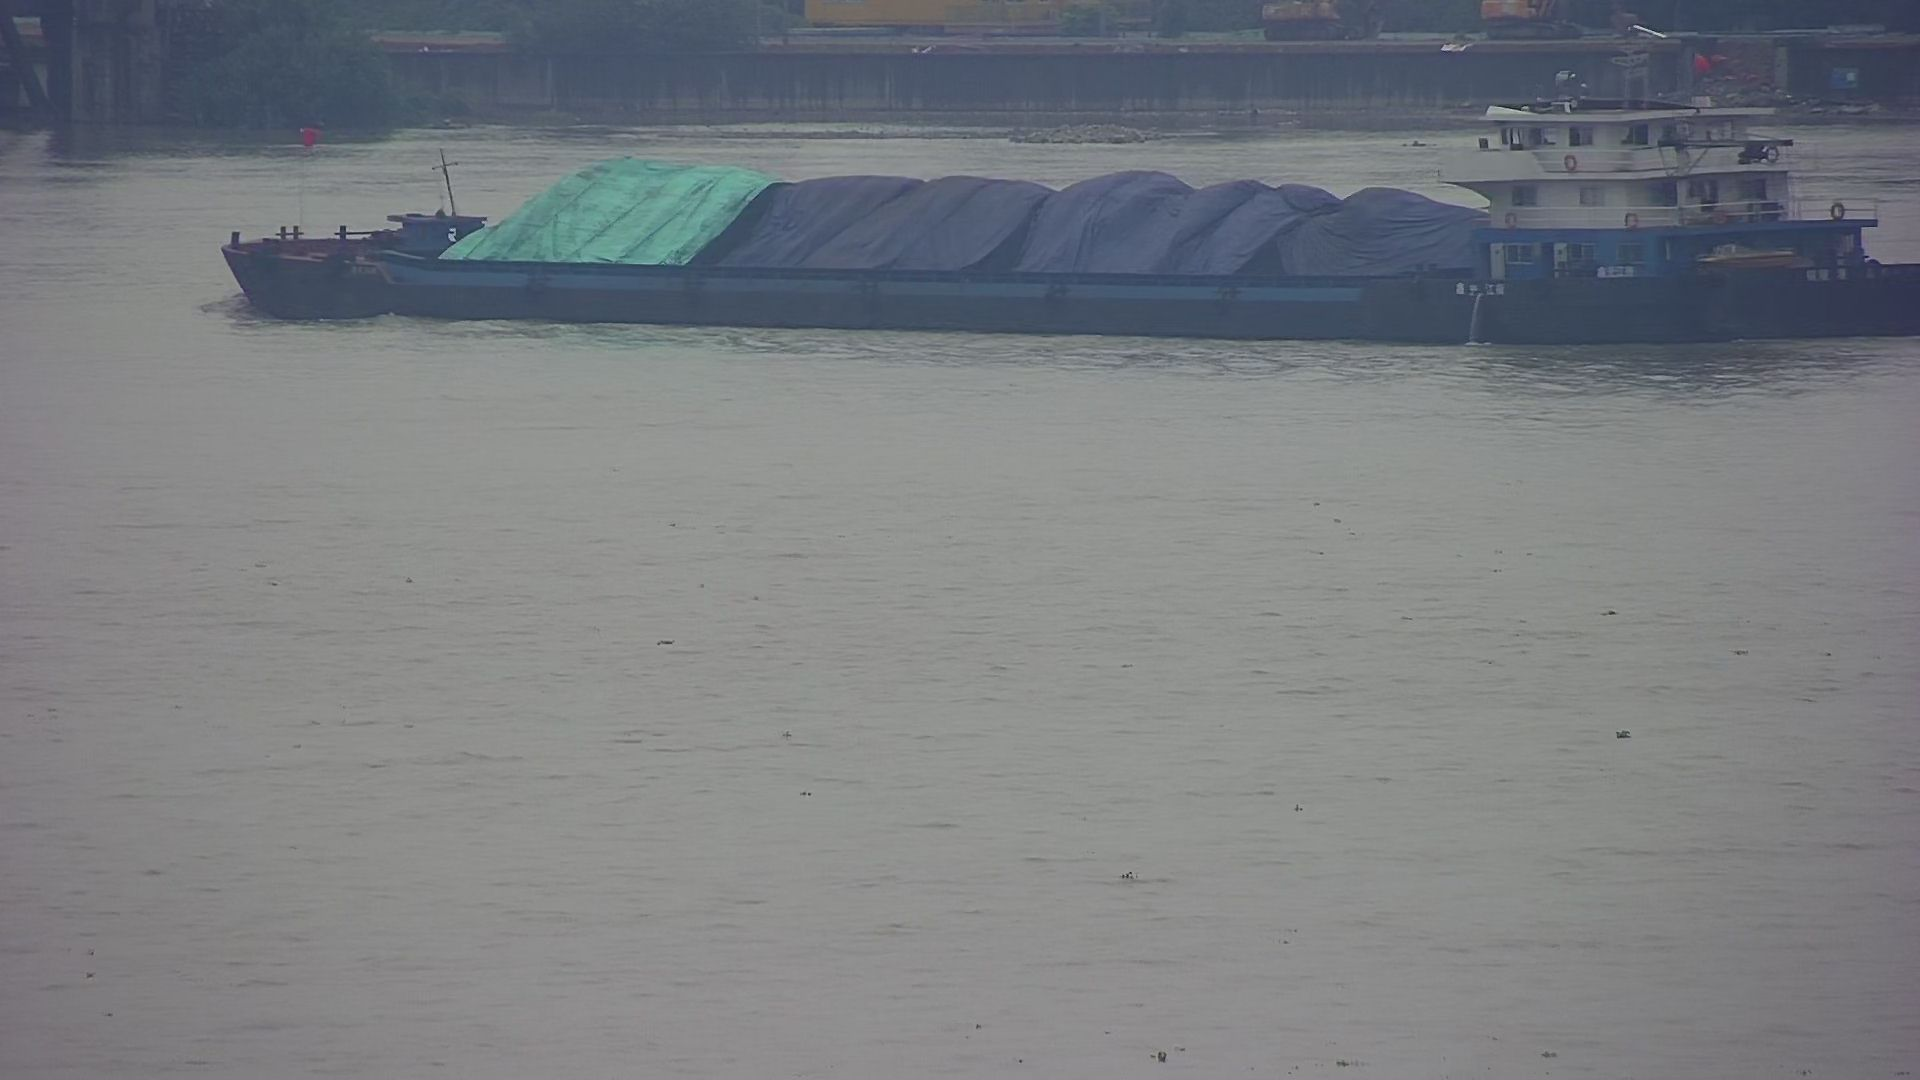ship: (191, 22, 1920, 367)
